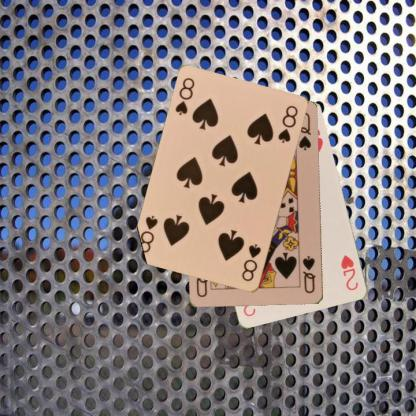2h: (339, 252, 360, 292)
8s: (239, 242, 263, 283), (173, 75, 196, 117)
Qs: (300, 254, 317, 294)
